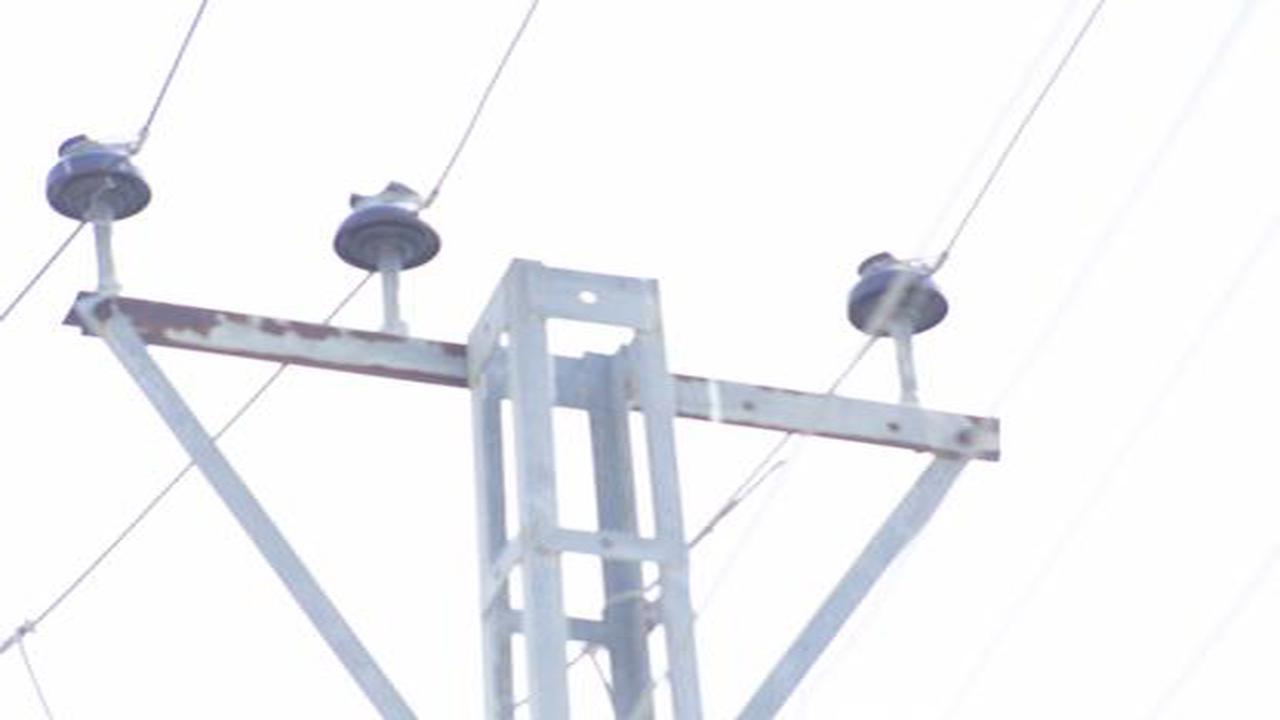insulator_pin: (836, 244, 958, 343), (329, 177, 446, 277), (41, 128, 156, 227)
